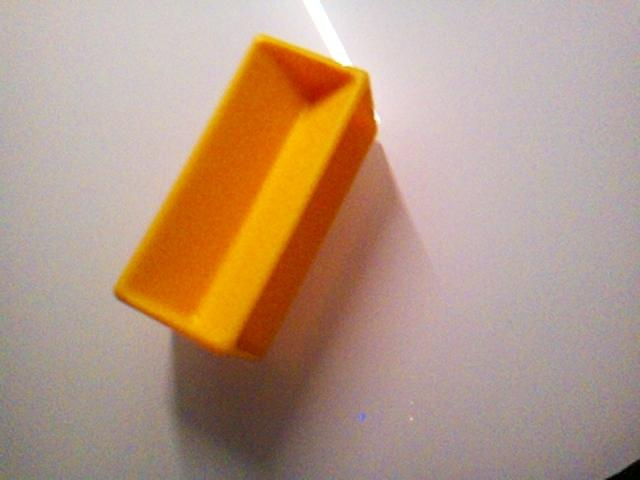yellow: (113, 32, 379, 362)
